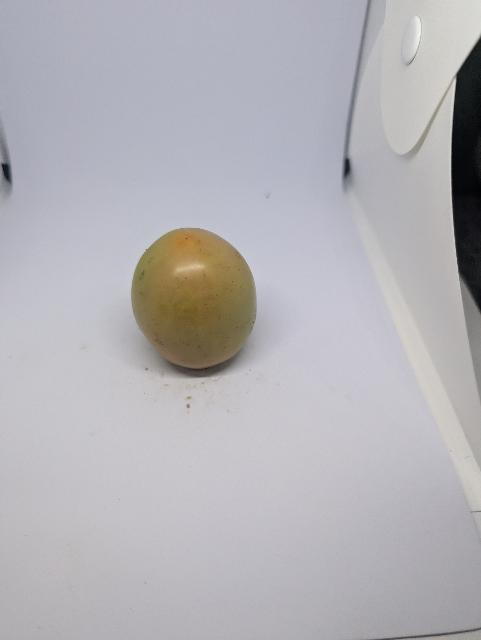turning: (127, 225, 269, 373)
